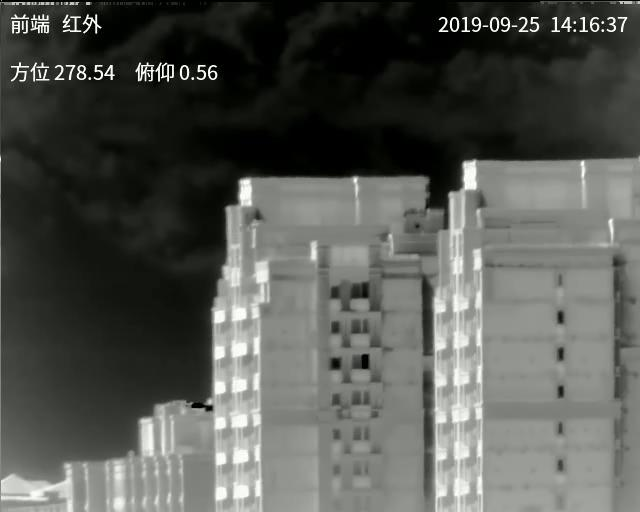uav: (234, 216, 260, 236)
